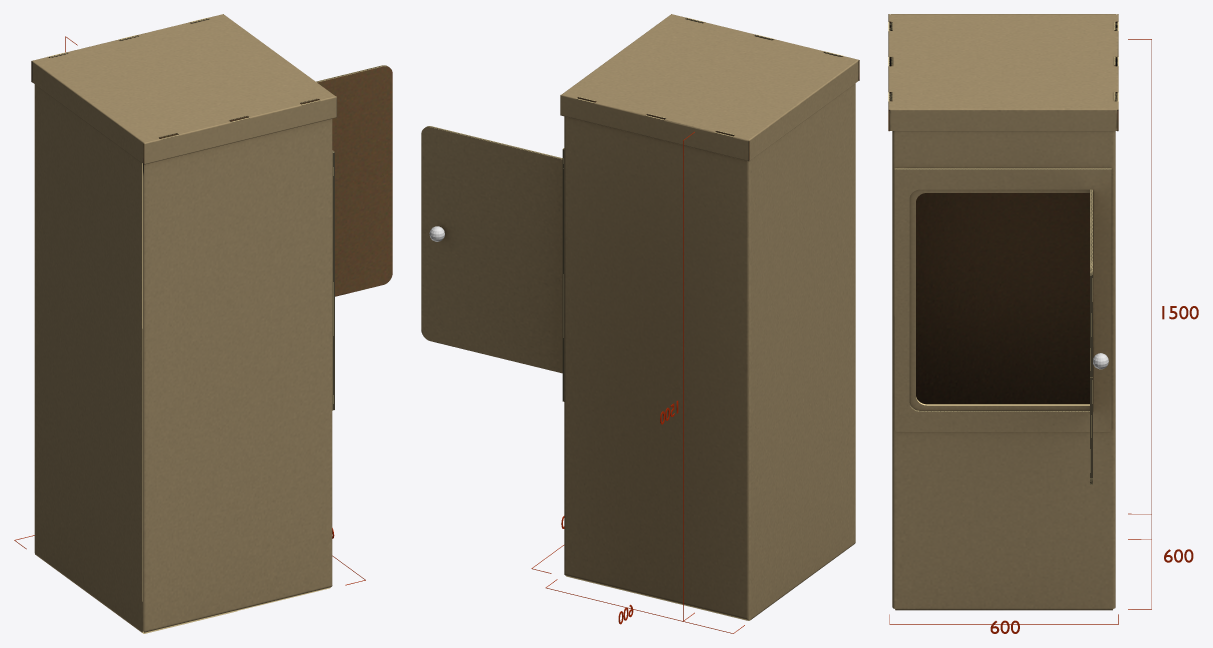
File: donaciones.glb
The picture shows the model from 3 angles, left to right: view 1: azimuth 30°, elevation 25°; view 2: azimuth 150°, elevation 25°; view 3: azimuth 270°, elevation 25°; orthographic projection. The views are drawn at different scales.
Visible parts, largest first — view 1: CAJA_DONACIONES---para_artios_ARD-node.001; view 2: CAJA_DONACIONES---para_artios_ARD-node.001; view 3: CAJA_DONACIONES---para_artios_ARD-node.001, Plano.003.
Part boxes in pixels (<box>): CAJA_DONACIONES---para_artios_ARD-node.001: <box>31,14,392,633</box>; CAJA_DONACIONES---para_artios_ARD-node.001: <box>421,14,859,620</box>; CAJA_DONACIONES---para_artios_ARD-node.001: <box>888,14,1118,610</box>; Plano.003: <box>1128,39,1151,539</box>.
Bounding box in the file's own units: 1.11 × 1.51 × 0.8448.
5 materials, 3 textured.
